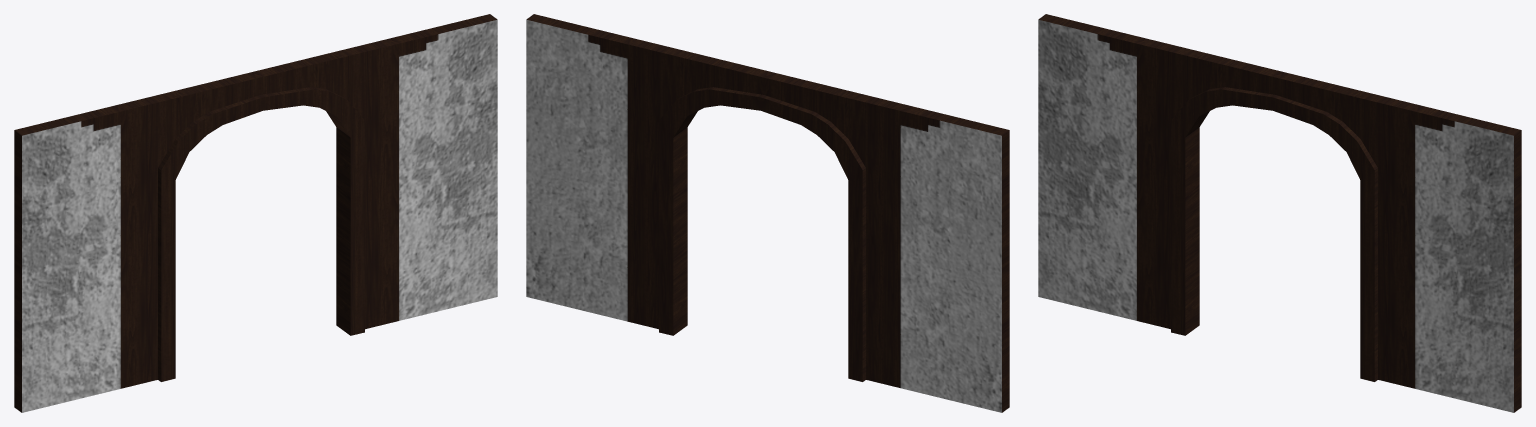
Rendered from arco.fbx.
3 views of the same model, side by side, from view 1: azimuth 30°, elevation 25°; view 2: azimuth 150°, elevation 25°; view 3: azimuth 330°, elevation 25° (orthographic).
Parts seen in each view (by area): view 1: Cube; view 2: Cube; view 3: Cube.
Boxes of the visible parts, box(x1,y1,x2,y2) form: Cube: box(14, 14, 497, 412); Cube: box(526, 14, 1009, 412); Cube: box(1038, 14, 1521, 412).
Size of the model in its own units: 1216 by 677 by 62.93.
